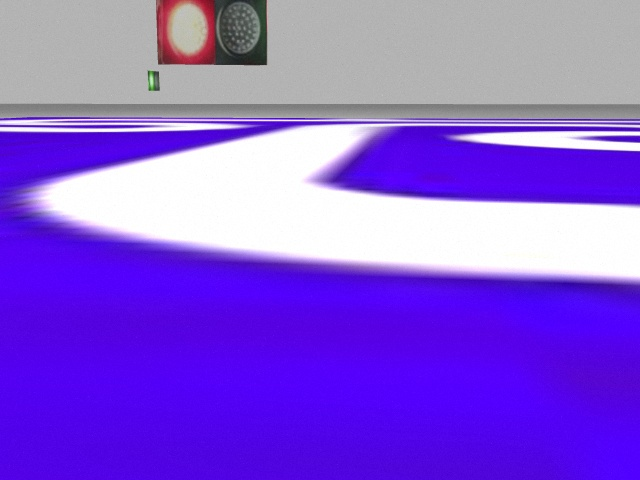red: (155, 2, 217, 66)
